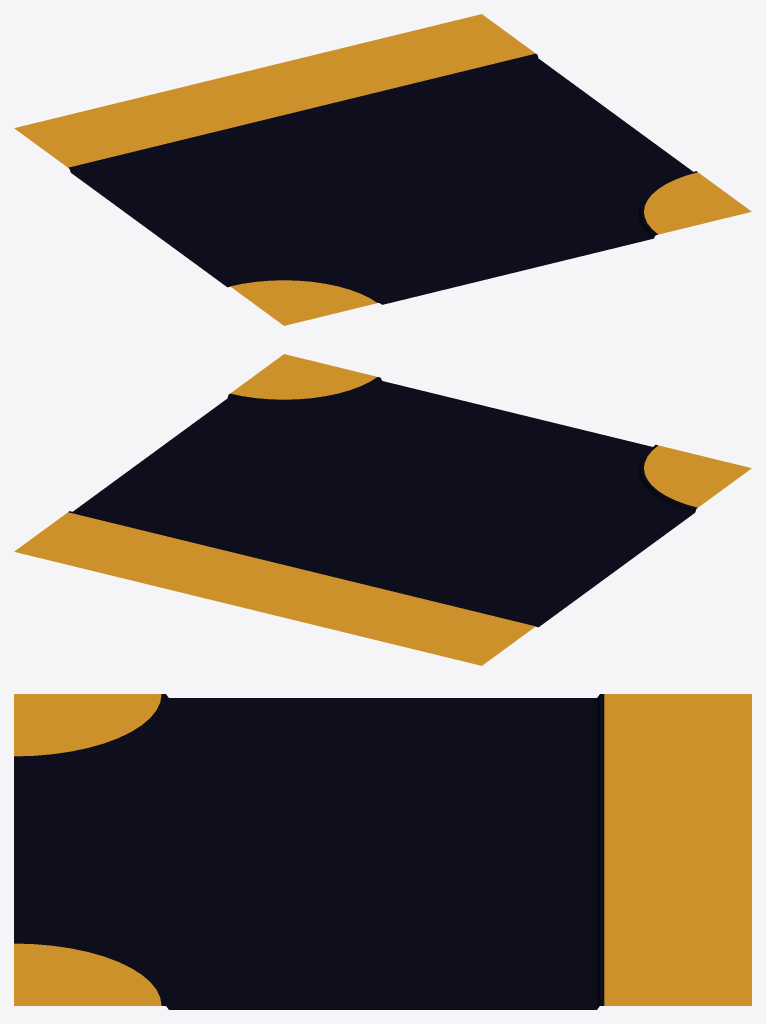
Rendered from RoadT.fbx.
3 renders of one model, top to bottom at view 1: azimuth 30°, elevation 25°; view 2: azimuth 150°, elevation 25°; view 3: azimuth 270°, elevation 25°, orthographic. The views are drawn at different scales.
Visible parts, largest first — view 1: Road_25m_T_; view 2: Road_25m_T_; view 3: Road_25m_T_.
Part boxes in pixels (bbox=[...]): Road_25m_T_: bbox=[14, 14, 751, 325]; Road_25m_T_: bbox=[14, 354, 751, 665]; Road_25m_T_: bbox=[14, 694, 751, 1009].
Size of the model in its own units: 2500 by 2500 by 15.
